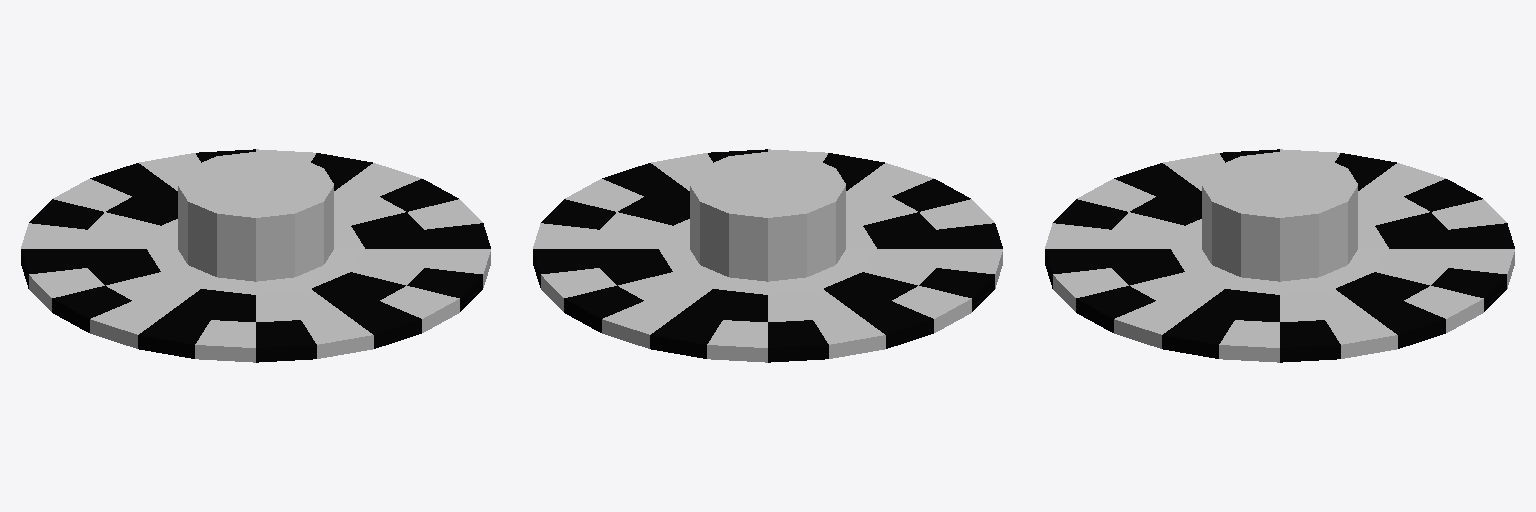
File: block_encoder_1_3.obj
The picture shows the model from 3 angles: view 1: azimuth 30°, elevation 25°; view 2: azimuth 150°, elevation 25°; view 3: azimuth 270°, elevation 25°; orthographic projection.
Parts seen in each view (by area): view 1: Cylinder; view 2: Cylinder; view 3: Cylinder.
Part boxes in pixels (x1,y1,x2,y2): Cylinder: (21, 149, 490, 362); Cylinder: (533, 149, 1002, 362); Cylinder: (1045, 149, 1514, 362).
Size of the model in its own units: 0.3 by 0.1 by 0.3.